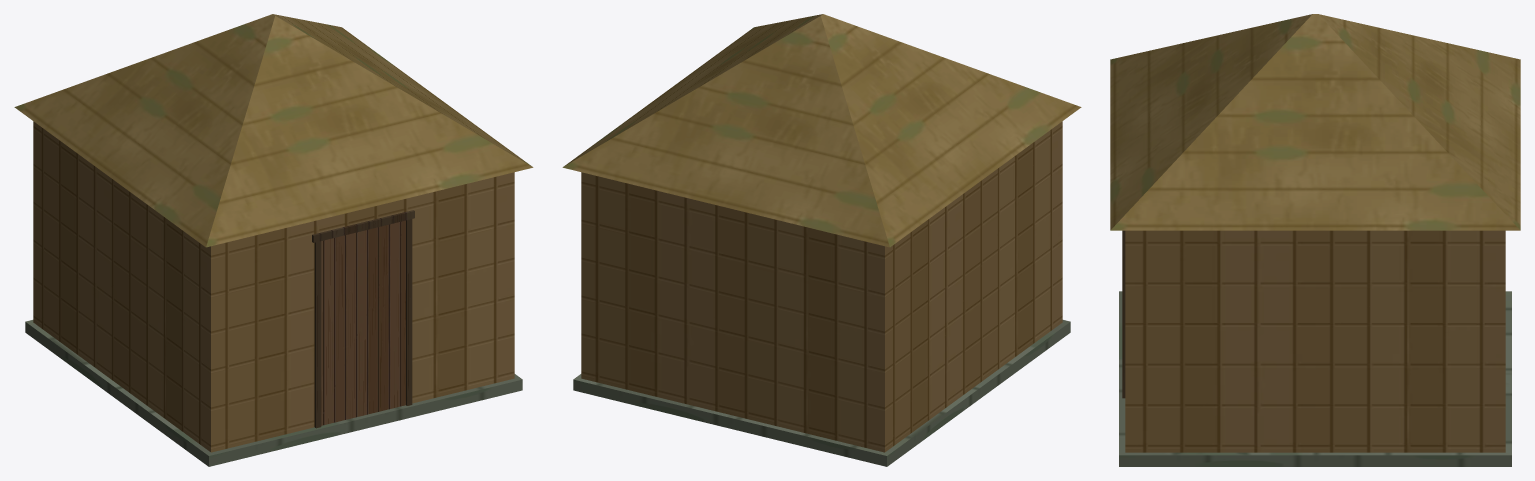
File: house_hut_b.glb
3 renders of one model, left to right at view 1: azimuth 30°, elevation 25°; view 2: azimuth 150°, elevation 25°; view 3: azimuth 270°, elevation 25°, orthographic. The views are drawn at different scales.
Visible parts, largest first — view 1: ae_jungle_house_hut_b; view 2: ae_jungle_house_hut_b; view 3: ae_jungle_house_hut_b.
Boxes of the visible parts, x1=… form: ae_jungle_house_hut_b: x1=14, y1=14, x2=533, y2=466; ae_jungle_house_hut_b: x1=562, y1=14, x2=1081, y2=466; ae_jungle_house_hut_b: x1=1110, y1=14, x2=1520, y2=466.
Bounding box in the file's own units: 3.78 × 3.82 × 3.83.
Materials: 1 (1 with a texture image).
